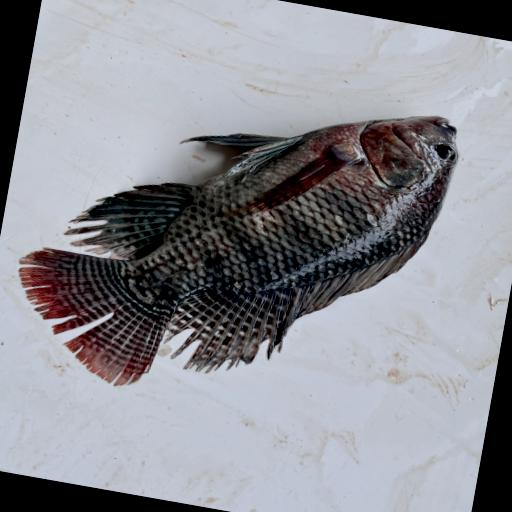Tilapia: (0, 48, 466, 438)
